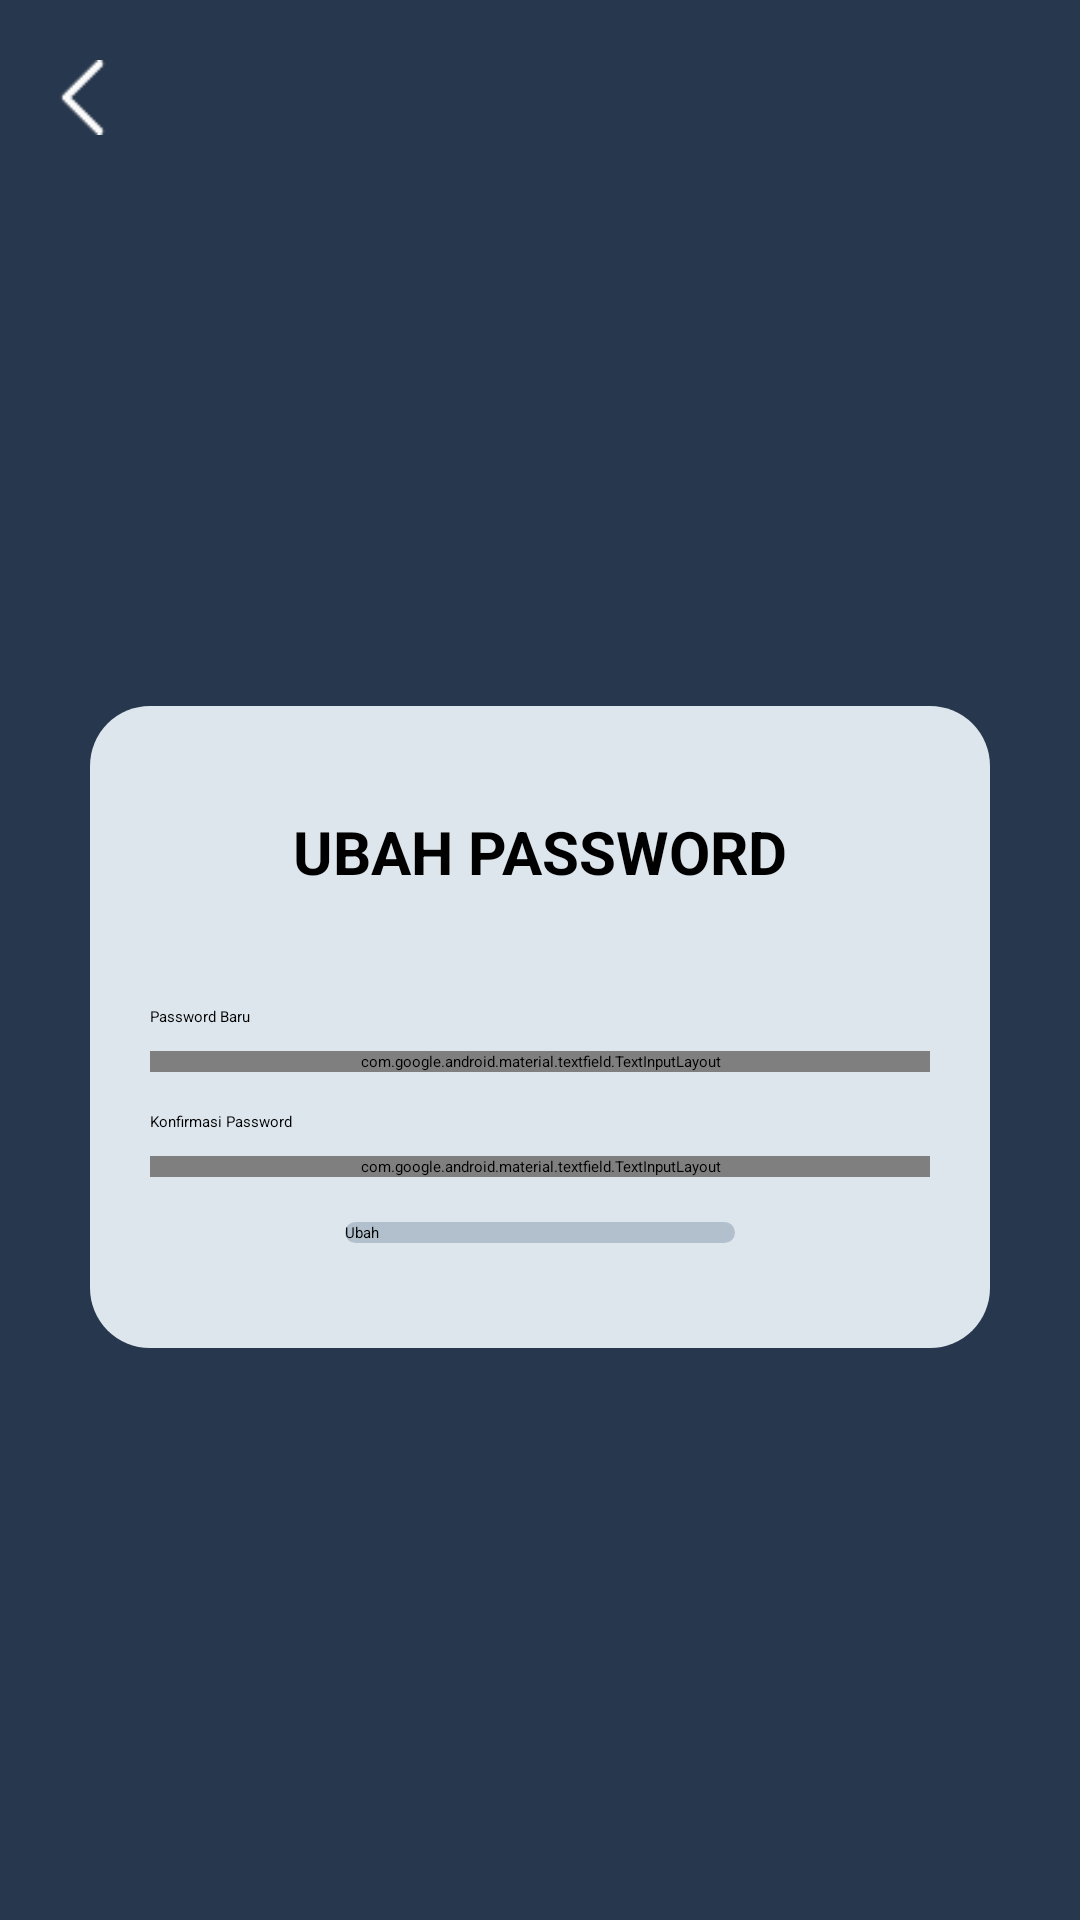

Named icons in this screenshot (1080 × 1920) and their centers, (x,y):
back: (82,97)
